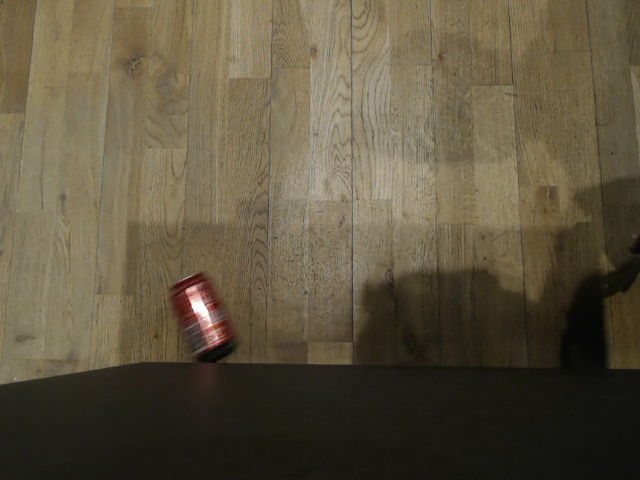cola: (165, 273, 237, 358)
